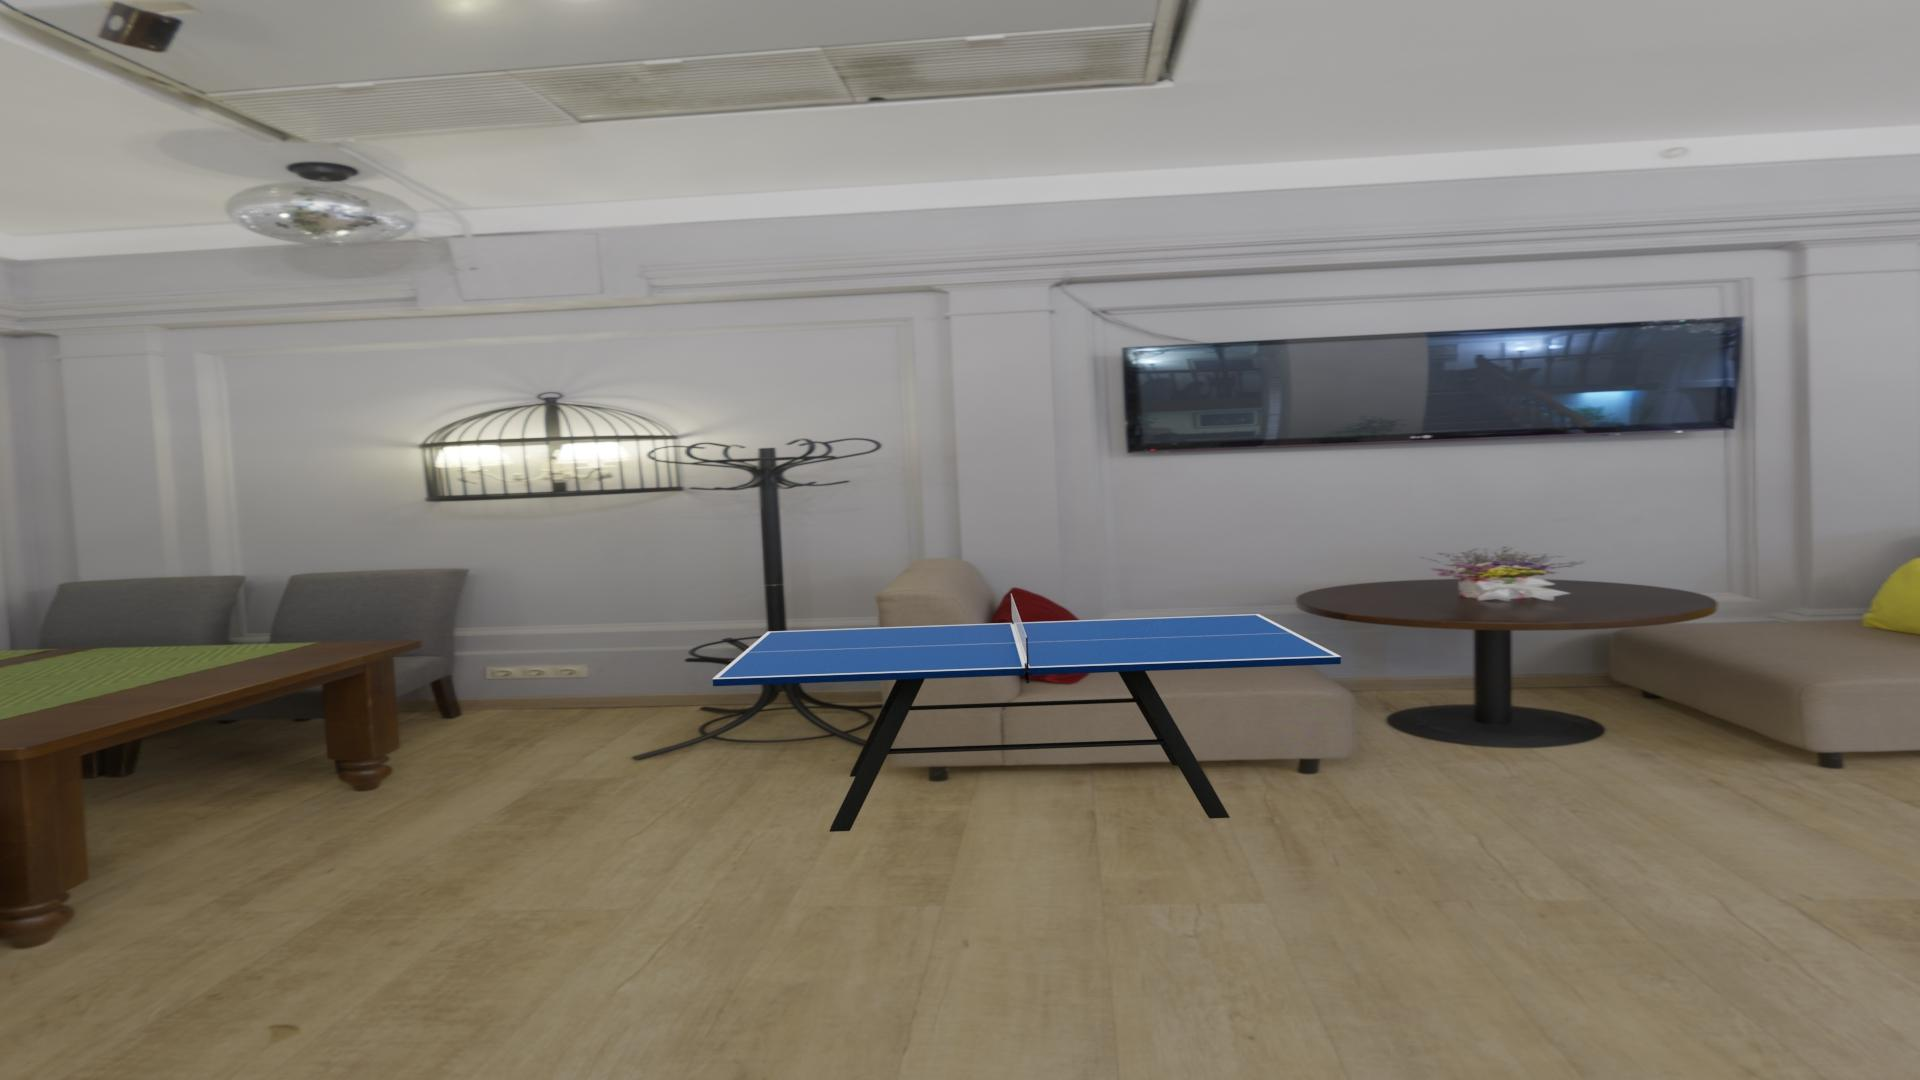table: (717, 615, 1336, 678)
